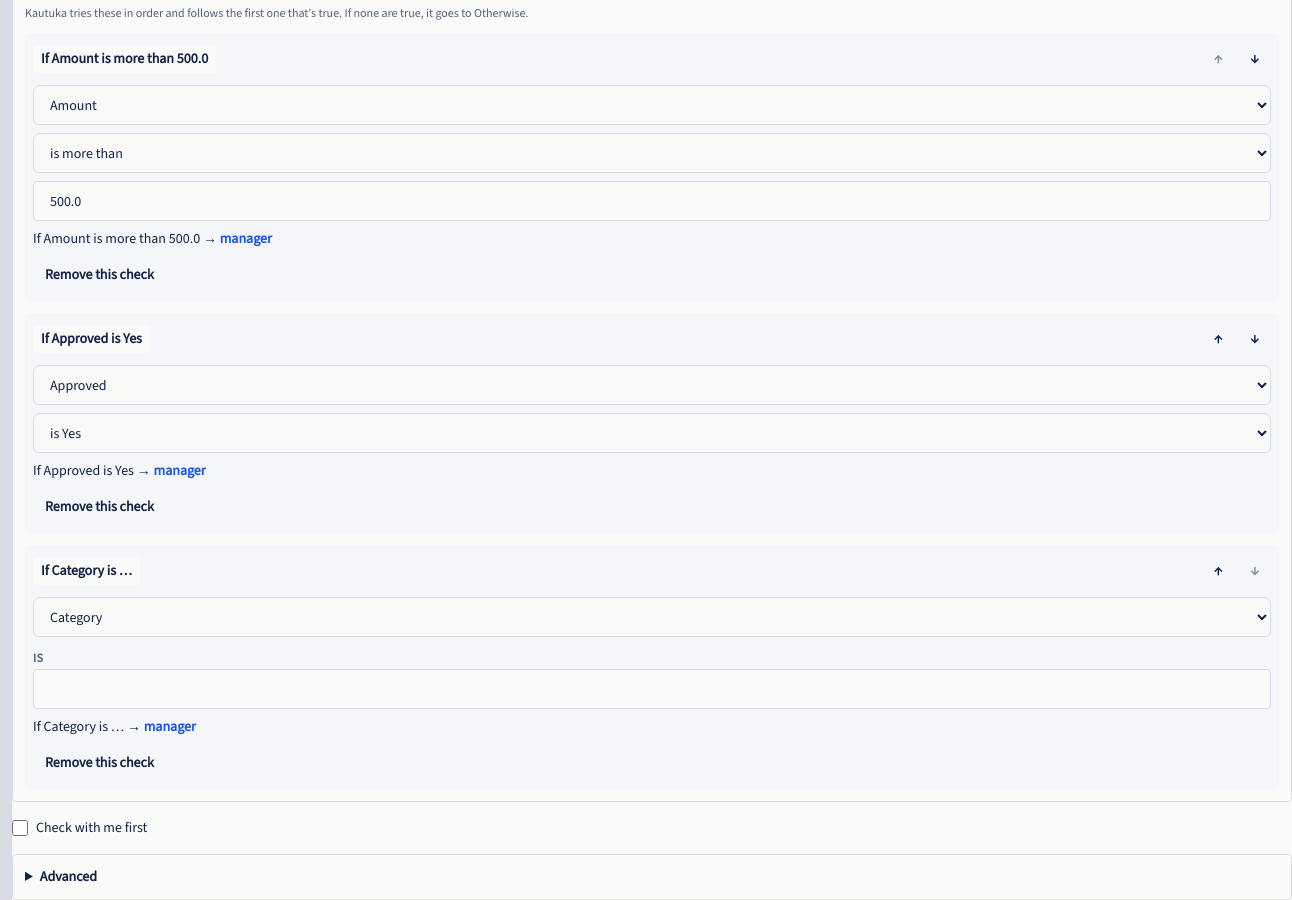
Scenario: WorkflowStepSettings result-aware checks › uses each check result kind, saves yes/no as eq true or false, and uses pick-list answers
The width and height of the screenshot is (1292, 900).
(page scrolled)
Focus the dropdown named "If 3 answer" at (652, 689), box [33,669,1271,709]
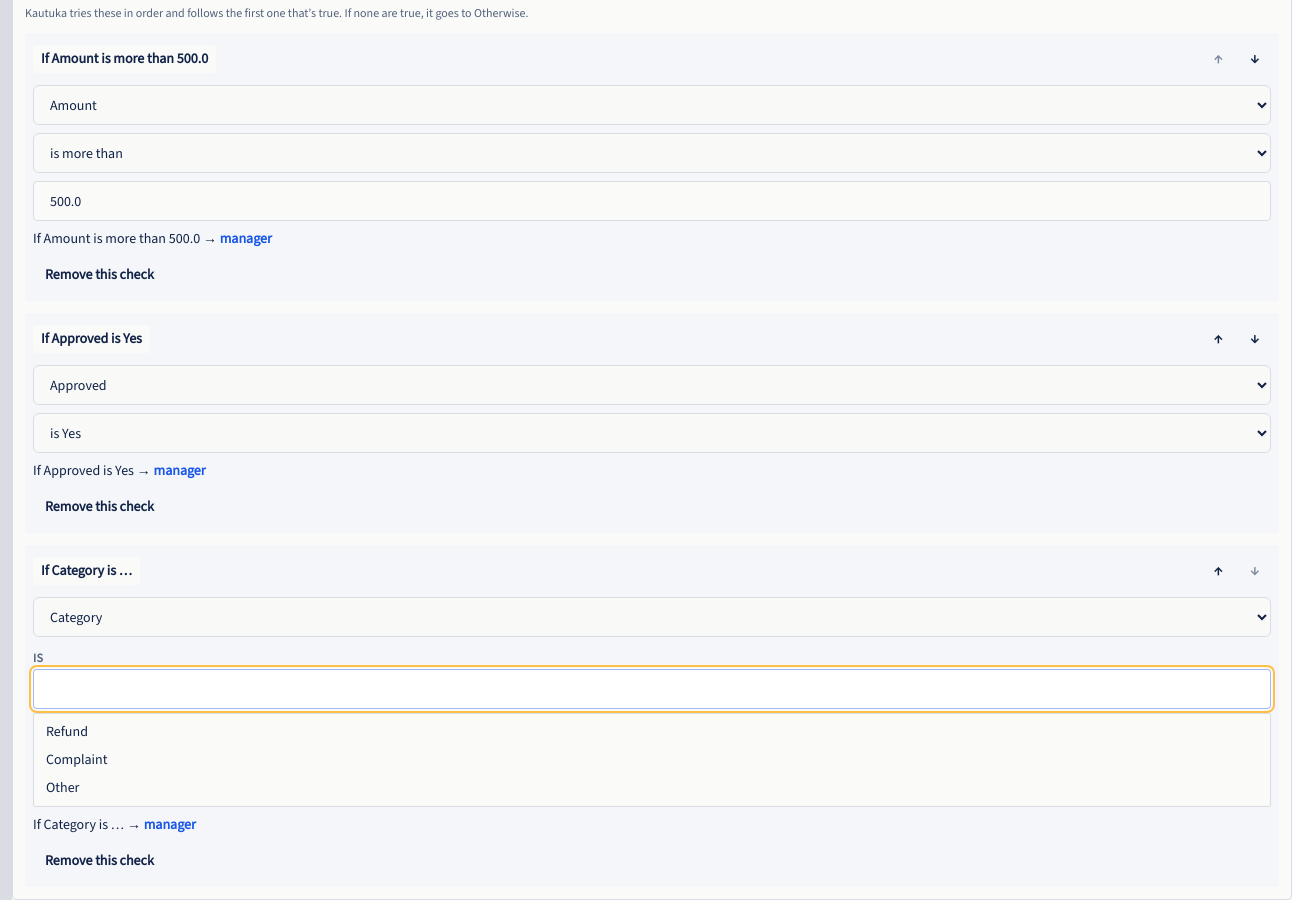
Now the list named "If 3 answer options" reads "Refund Complaint Other", box [33,713,1271,807]
Select "is No" in the dropdown named "If 2 comparison" at (652, 433), box [33,413,1271,453]
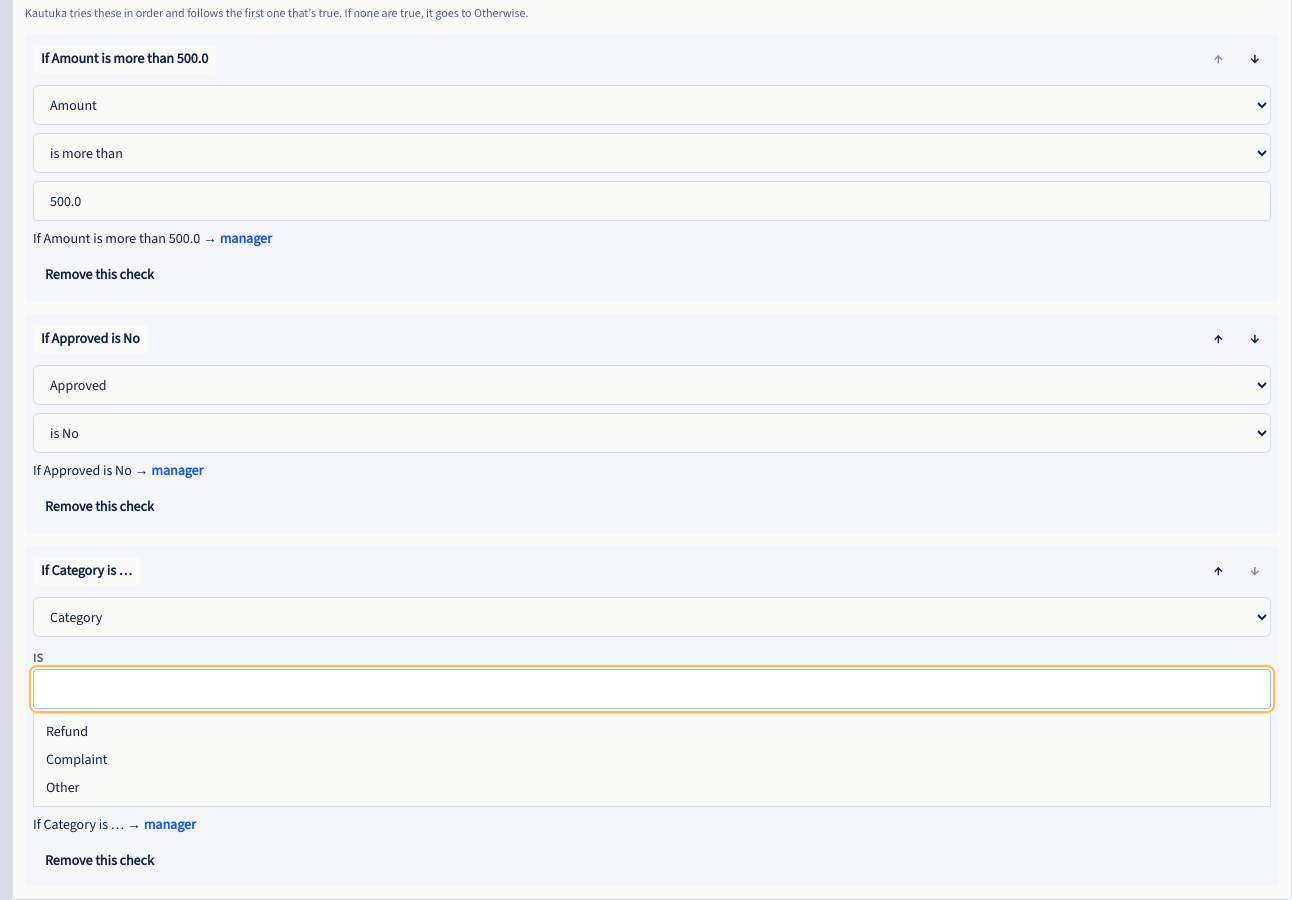
Click the option "Refund" at (67, 732), box [38,718,1266,746]
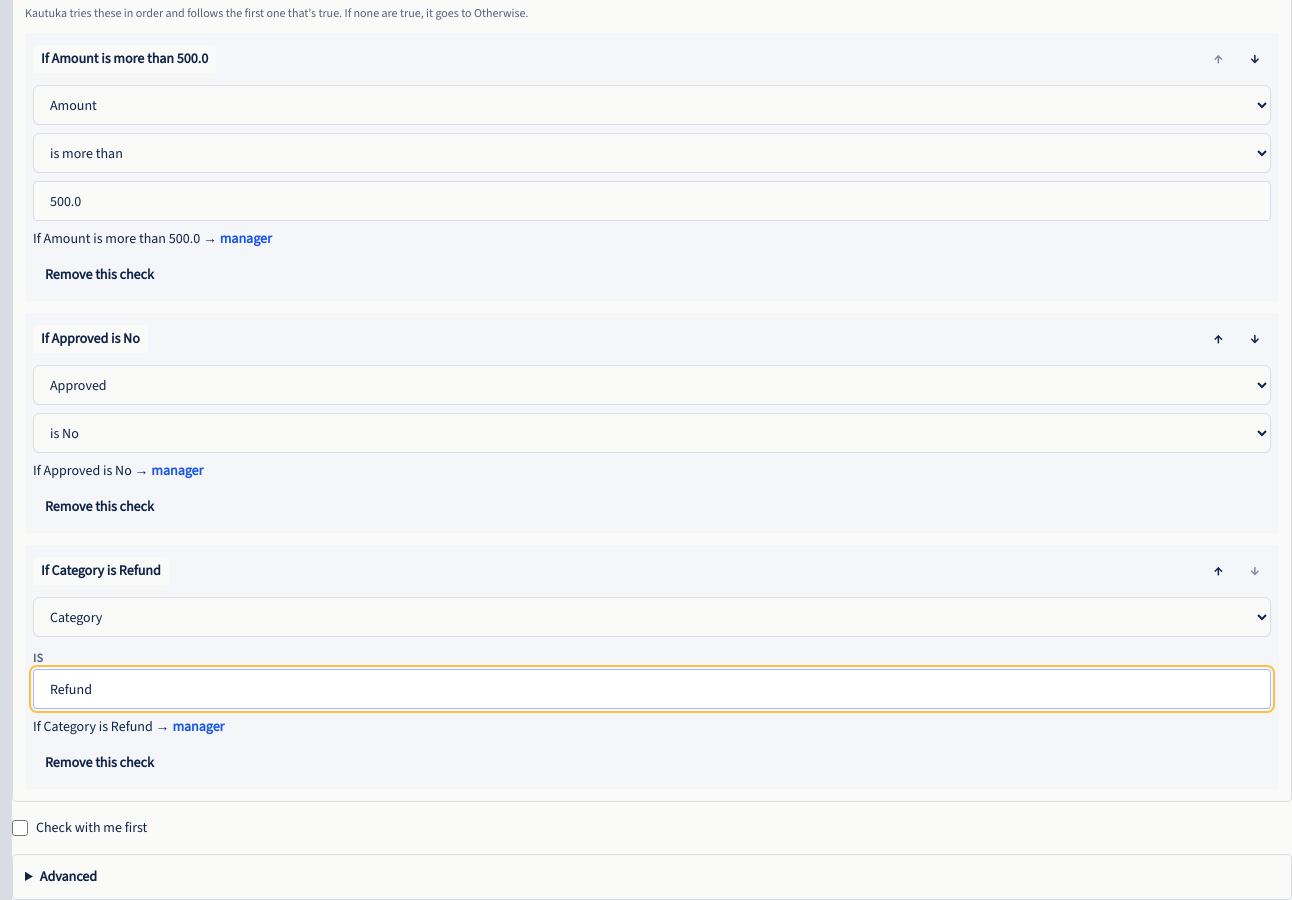
Now the text "If Category is Refund" is shown, box [33,557,169,585]
